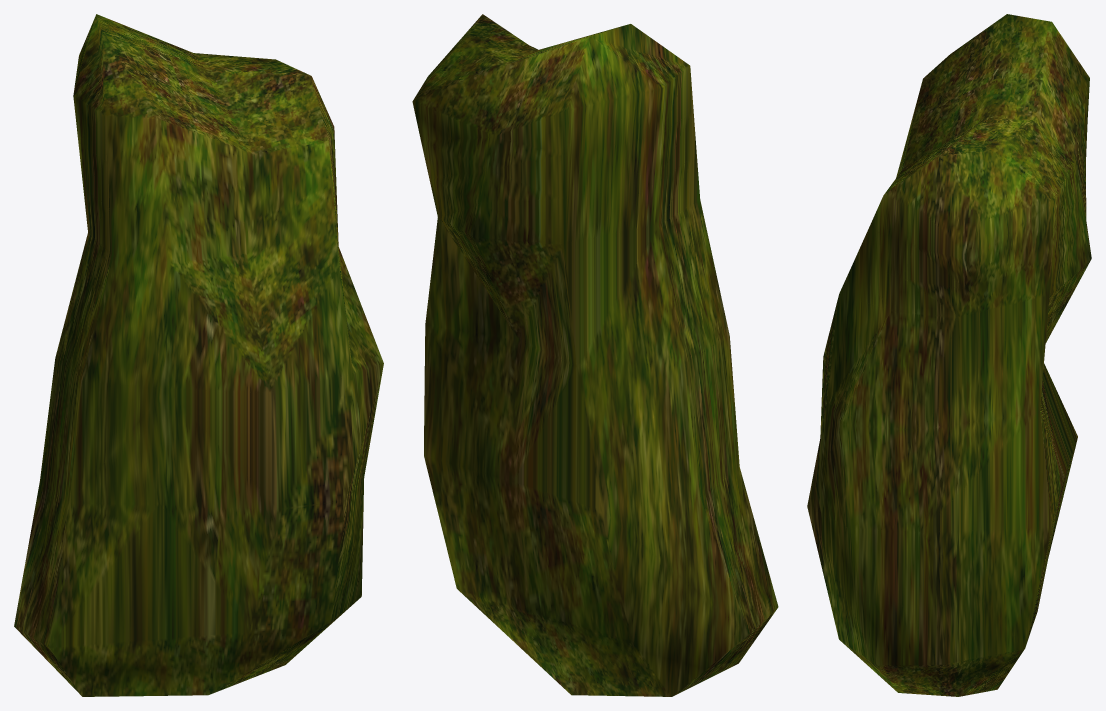
The model's file is TROLLHOLE02_RM_PSURF91.fbx.
3 renders of one model, left to right at view 1: azimuth 30°, elevation 25°; view 2: azimuth 150°, elevation 25°; view 3: azimuth 270°, elevation 25°, orthographic. The views are drawn at different scales.
Visible parts, largest first — view 1: TROLLHOLE02_RM_PSURF91; view 2: TROLLHOLE02_RM_PSURF91; view 3: TROLLHOLE02_RM_PSURF91.
Part boxes in pixels (x1,y1,x2,y2): TROLLHOLE02_RM_PSURF91: [14, 14, 383, 696]; TROLLHOLE02_RM_PSURF91: [412, 14, 778, 696]; TROLLHOLE02_RM_PSURF91: [807, 14, 1091, 696].
Size of the model in its own units: 57710 by 114661 by 45758.
1 material, 1 textured.
